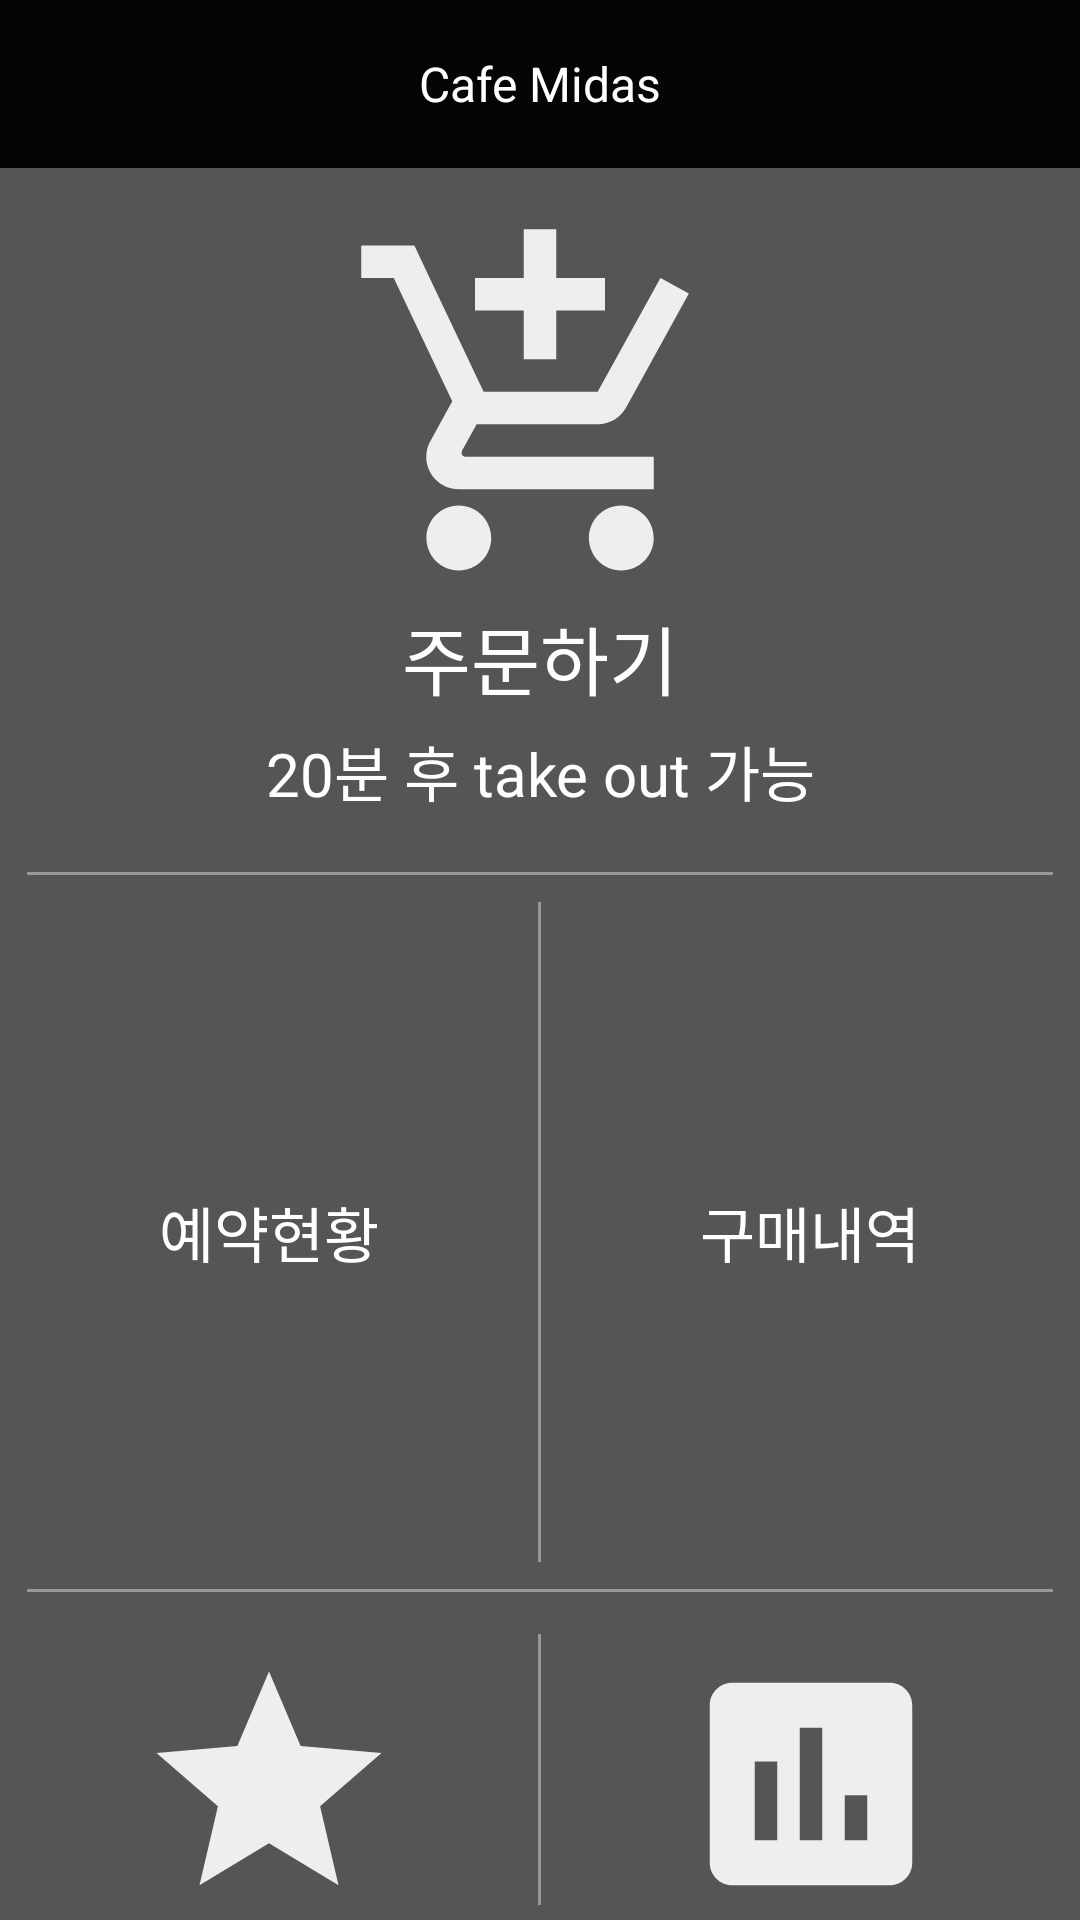

Icons on this 1080w x 1920h Android screen, each with its box as {"x1": x1, "y1": y1, "x2": x2, "y2": y2}:
add shopping cart: {"x1": 361, "y1": 229, "x2": 689, "y2": 571}
assessment: {"x1": 709, "y1": 1682, "x2": 913, "y2": 1886}
grade: {"x1": 157, "y1": 1672, "x2": 381, "y2": 1885}
